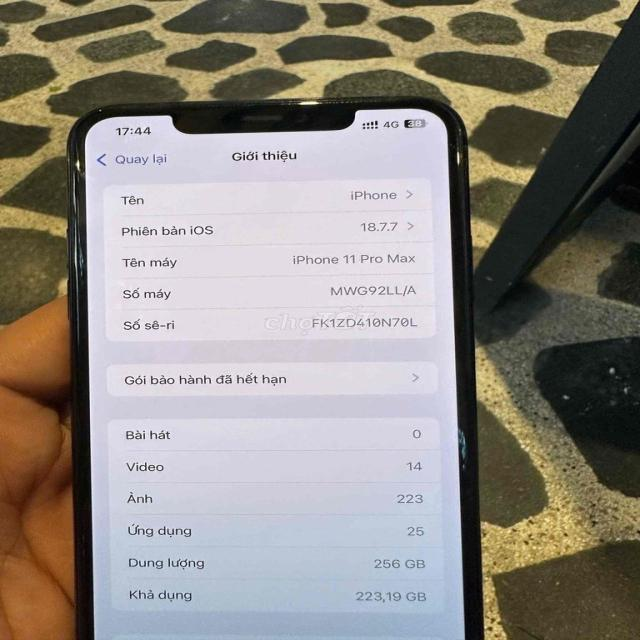gen_11: (68, 98, 482, 639)
